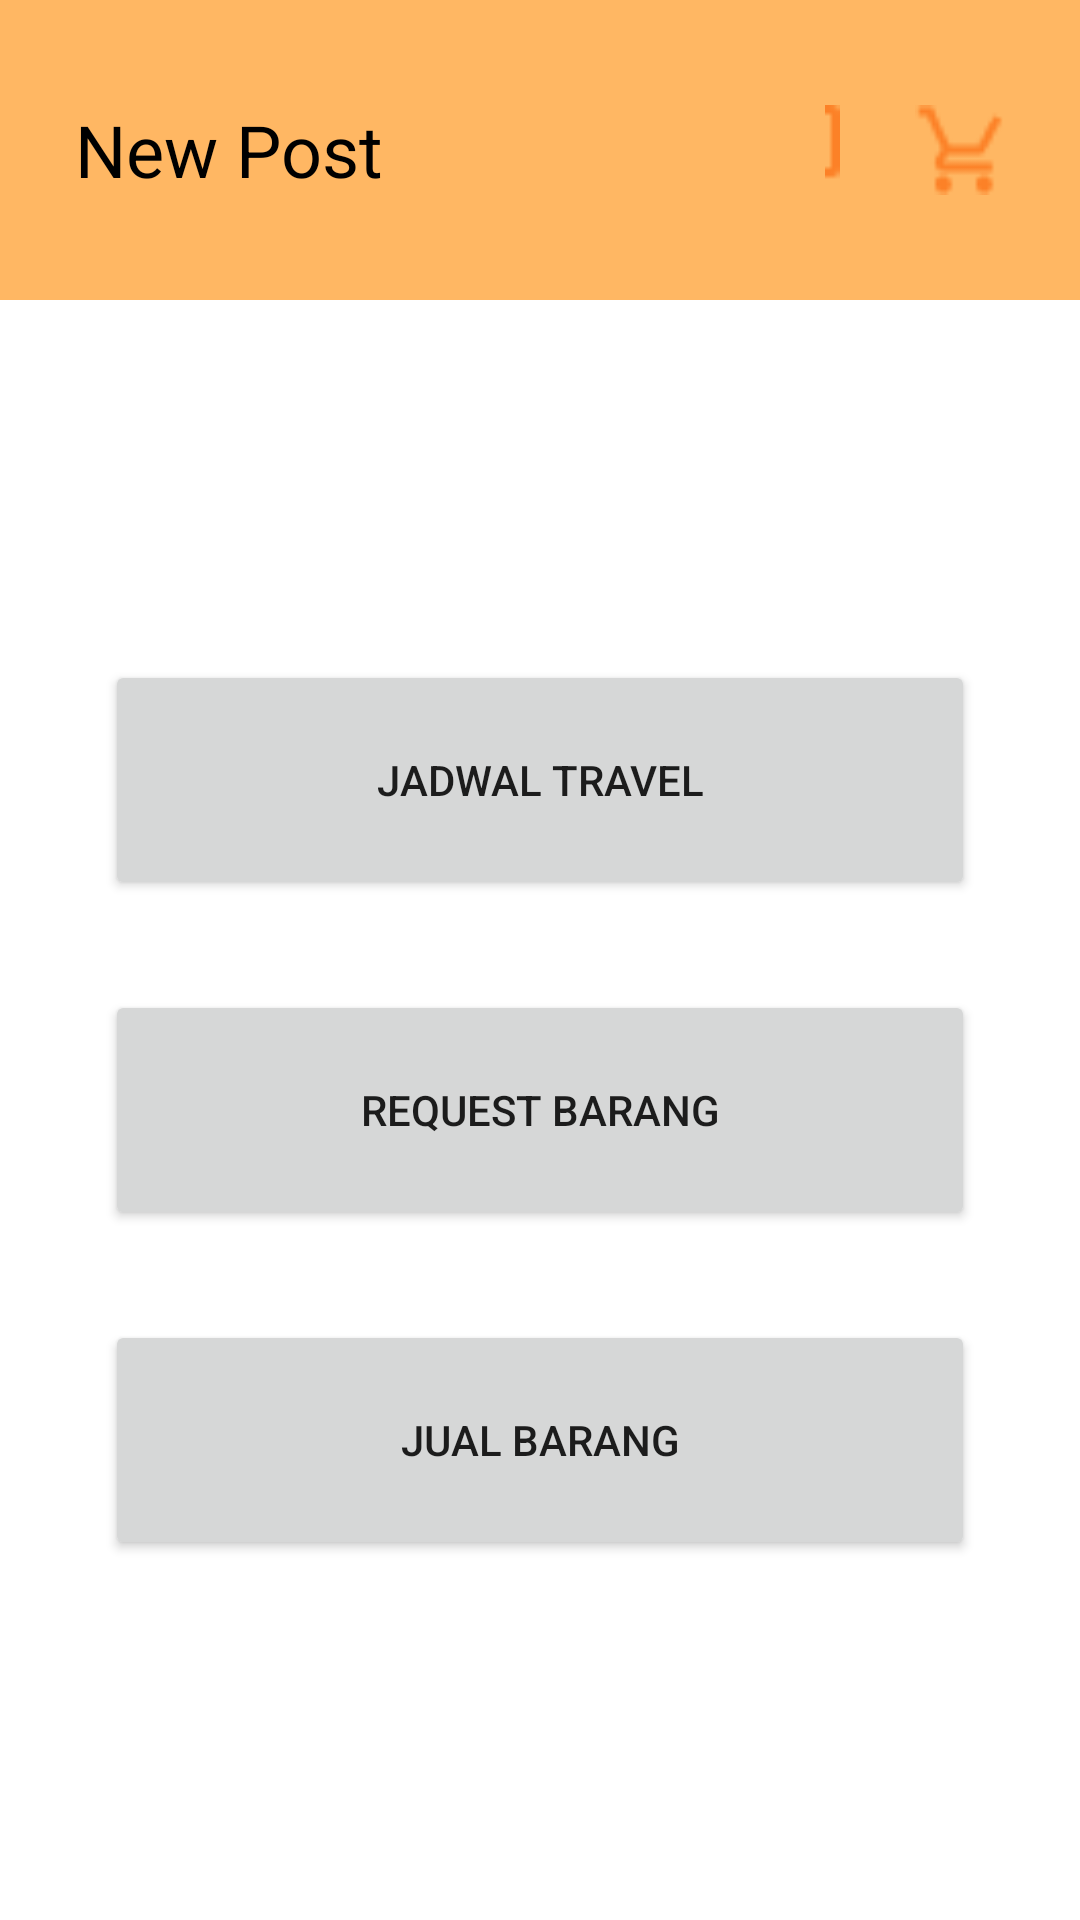

Icon bounding boxes for this 1080*1920 phone screenshot, format bbox=[x1, y1, x2, y2]:
cart: bbox=[918, 105, 1001, 195]
